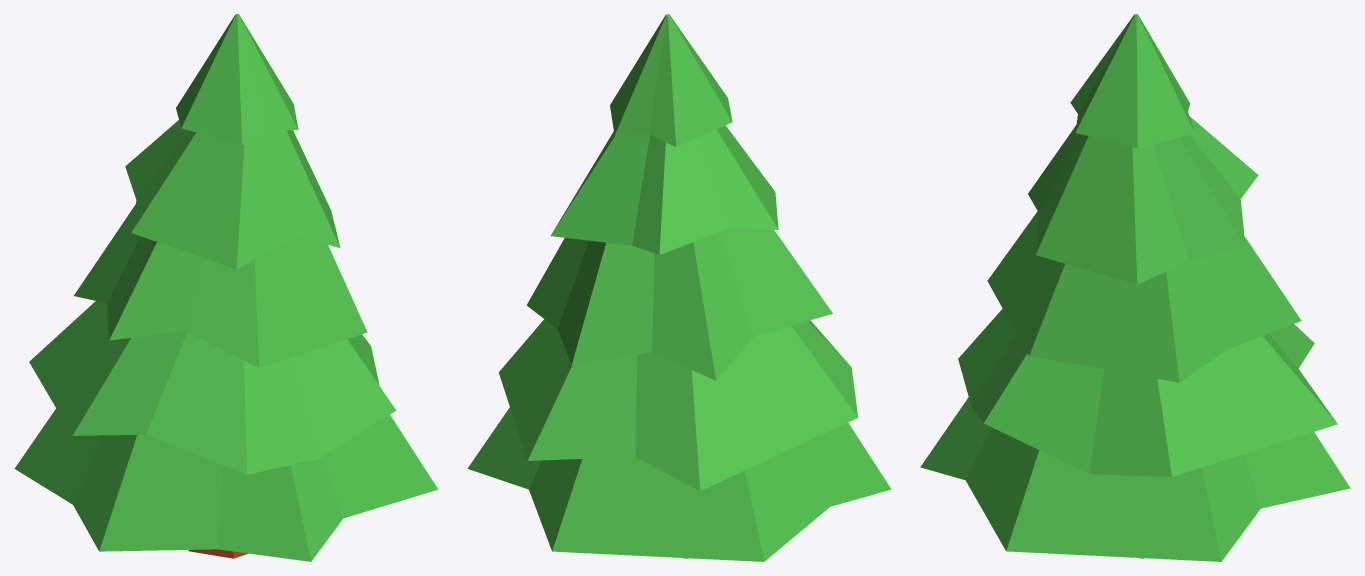
The model's file is TestTree.fbx.
The picture shows the model from 3 angles, left to right: view 1: azimuth 30°, elevation 25°; view 2: azimuth 150°, elevation 25°; view 3: azimuth 270°, elevation 25°; orthographic projection.
Parts seen in each view (by area): view 1: Cube.001; view 2: Cube.001; view 3: Cube.001.
Part boxes in pixels (bbox=[...]): Cube.001: bbox=[14, 14, 438, 561]; Cube.001: bbox=[467, 14, 891, 561]; Cube.001: bbox=[920, 14, 1350, 561].
Size of the model in its own units: 439 by 644 by 475.
